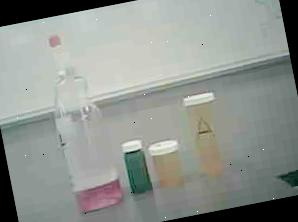Bottle A: (180, 82, 242, 187)
Bottle B: (146, 132, 188, 193)
Bottle C: (118, 132, 157, 202)
hazard: (29, 12, 131, 221)
